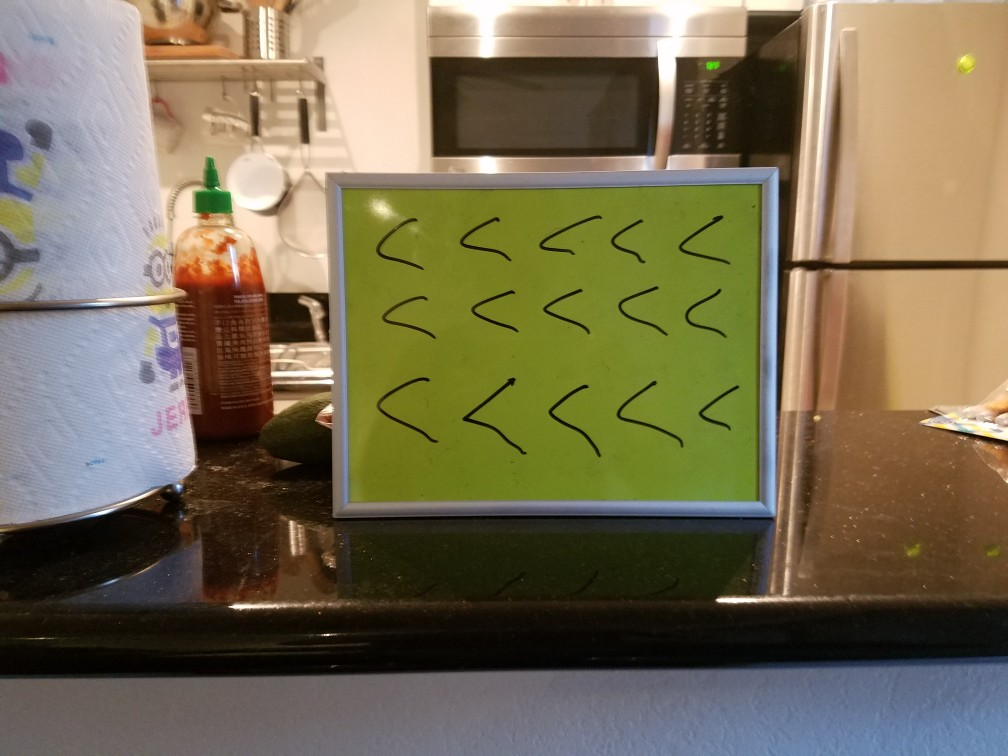<: (607, 366, 694, 459), (457, 368, 539, 463), (375, 363, 448, 458), (539, 374, 613, 464), (370, 279, 442, 358), (675, 276, 747, 353), (451, 203, 523, 274), (366, 205, 430, 281), (673, 207, 742, 273), (538, 210, 606, 275), (617, 275, 675, 347), (465, 277, 524, 346), (536, 281, 597, 344), (605, 207, 659, 277), (692, 381, 750, 436)
